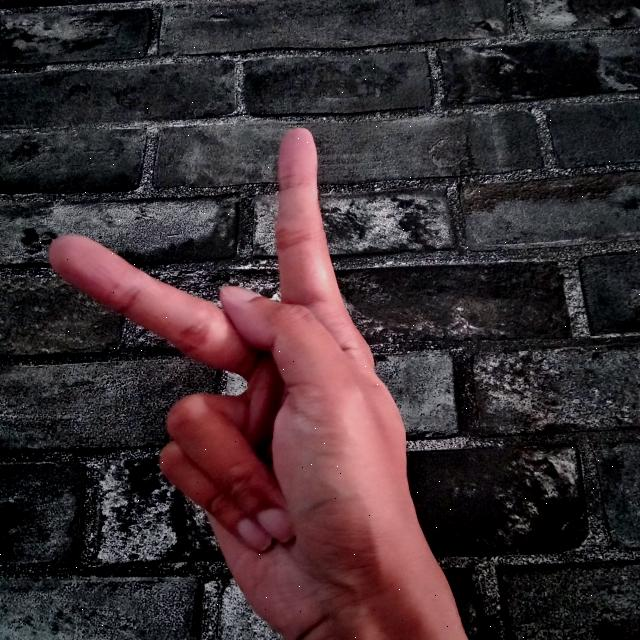K: (47, 123, 473, 640)
